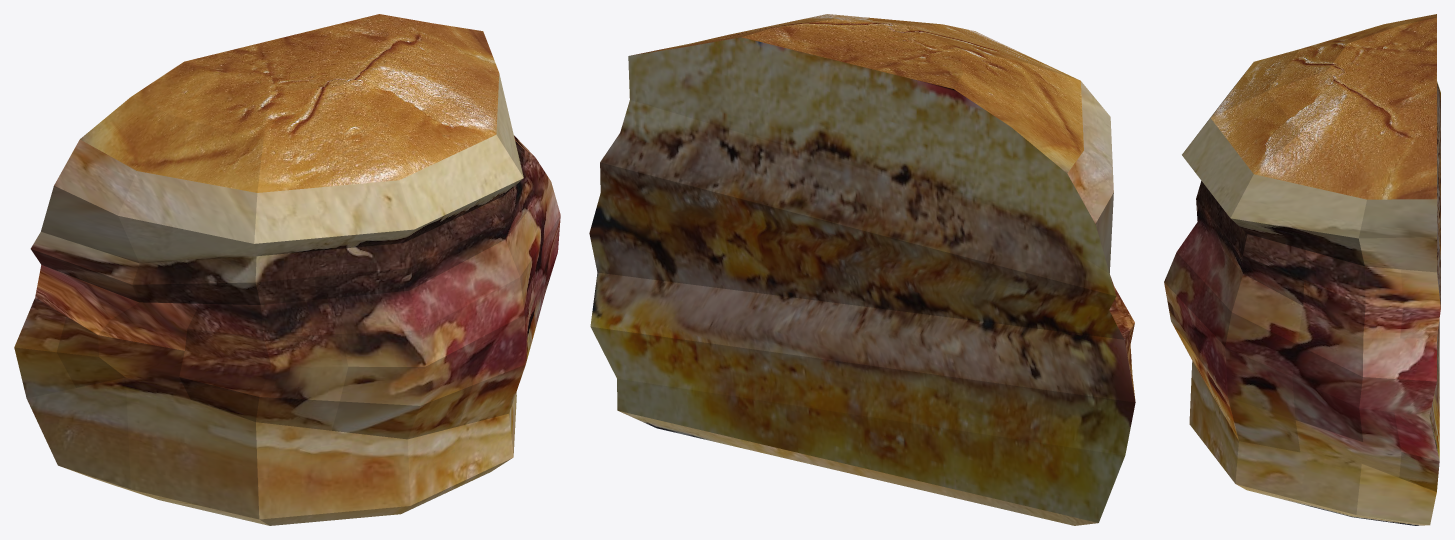
Rendered from burger.glb.
3 views of the same model, side by side, from view 1: azimuth 30°, elevation 25°; view 2: azimuth 150°, elevation 25°; view 3: azimuth 270°, elevation 25° (orthographic). The views are drawn at different scales.
Parts seen in each view (by area): view 1: Cylinder; view 2: Cylinder; view 3: Cylinder.
Boxes of the visible parts, x1,y1,x2,y2 form: Cylinder: (14, 14, 560, 525); Cylinder: (589, 14, 1135, 525); Cylinder: (1164, 14, 1440, 525).
Size of the model in its own units: 0.5044 by 0.37 by 0.2477.
Materials: 1 (1 with a texture image).
